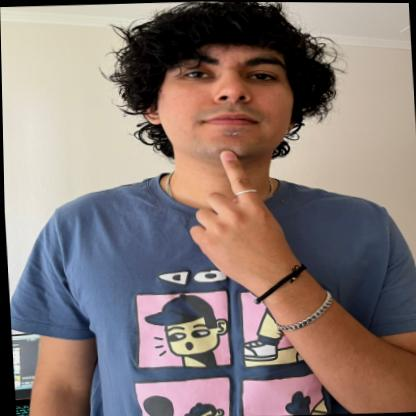T: (185, 144, 290, 289)
